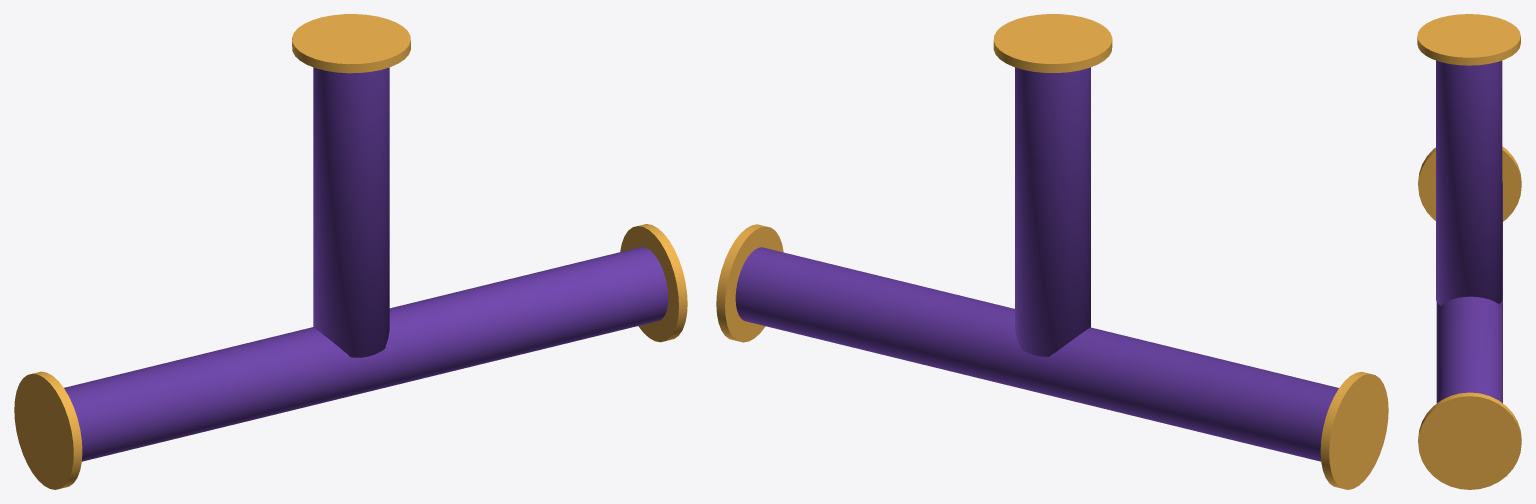
File: pipe3.fbx
3 views of the same model, side by side, from view 1: azimuth 30°, elevation 25°; view 2: azimuth 150°, elevation 25°; view 3: azimuth 270°, elevation 25° (orthographic). The views are drawn at different scales.
Parts seen in each view (by area): view 1: pipe3; view 2: pipe3; view 3: pipe3.
Boxes of the visible parts, x1,y1,x2,y2 form: pipe3: (14,14,687,489); pipe3: (716,14,1388,489); pipe3: (1417,14,1521,489).
Bounding box in the file's own units: 9.83 × 1.66 × 5.69.
Materials: 2 (1 with a texture image).
